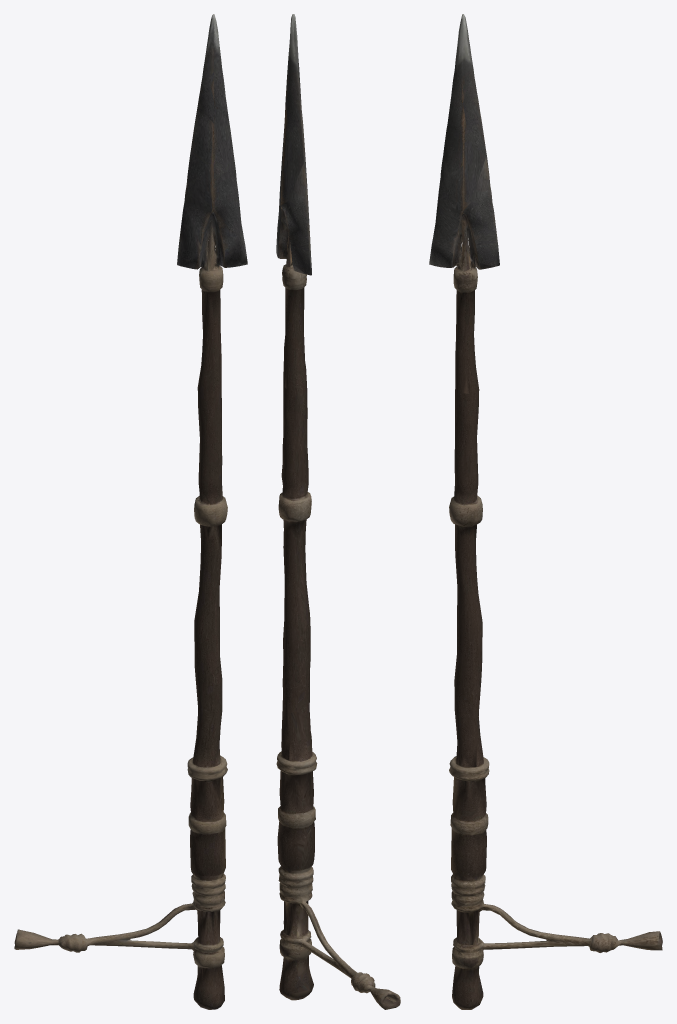
File: SM_Spear.fbx
3 renders of one model, left to right at view 1: azimuth 90°, elevation 25°; view 2: azimuth 210°, elevation 25°; view 3: azimuth 270°, elevation 25°, orthographic.
Visible parts, largest first — view 1: Spear; view 2: Spear; view 3: Spear.
Boxes of the visible parts, x1,y1,x2,y2 form: Spear: (14,14,247,1009); Spear: (276,14,400,1009); Spear: (429,14,662,1009).
Size of the model in its own units: 7.51 by 200 by 42.63.
Materials: 1 (1 with a texture image).
